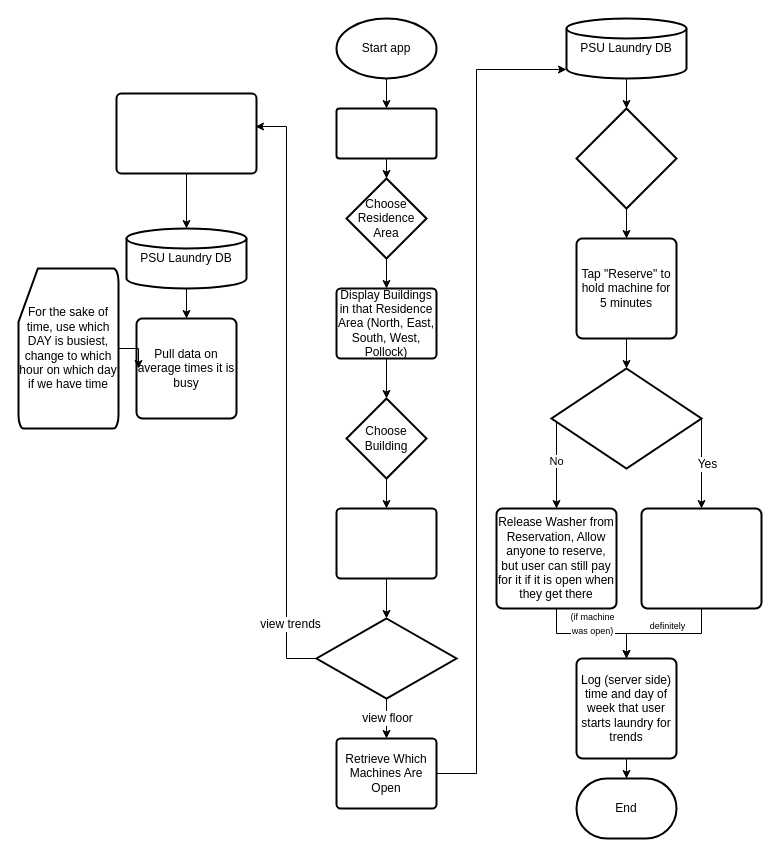
Some shapes in this 779 by 856 pixel diagram are drawn without their labels. The box of each missing label's shape, as (x1, y1, x2, y2) in pixels:
Choose Floor or Choose to View Trends: (315, 617, 457, 699)
Determine if User Swipes ID In Laundry Room Before Timer Is Up: (550, 367, 702, 469)
Display Which Floors Have Laundry Rooms: (335, 507, 437, 579)
Select an Open Machine: (575, 107, 677, 209)
Sign In with PSU account: (335, 107, 437, 159)
Switch to trend view: (115, 92, 257, 174)
User definitely gets to use that machine: (640, 507, 762, 609)
